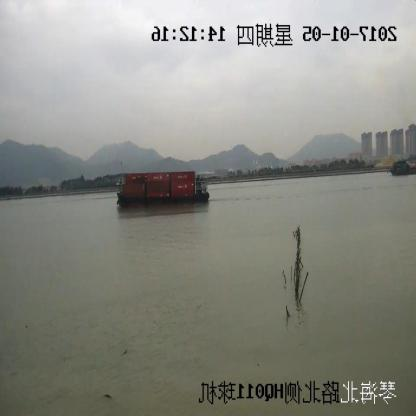Bulk Carrier: (388, 163, 416, 176)
